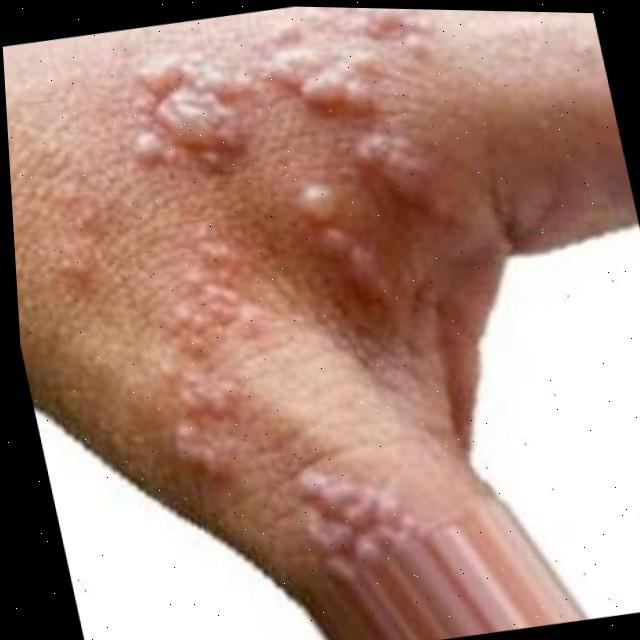Shingles: (64, 1, 512, 494), (289, 455, 415, 576)
